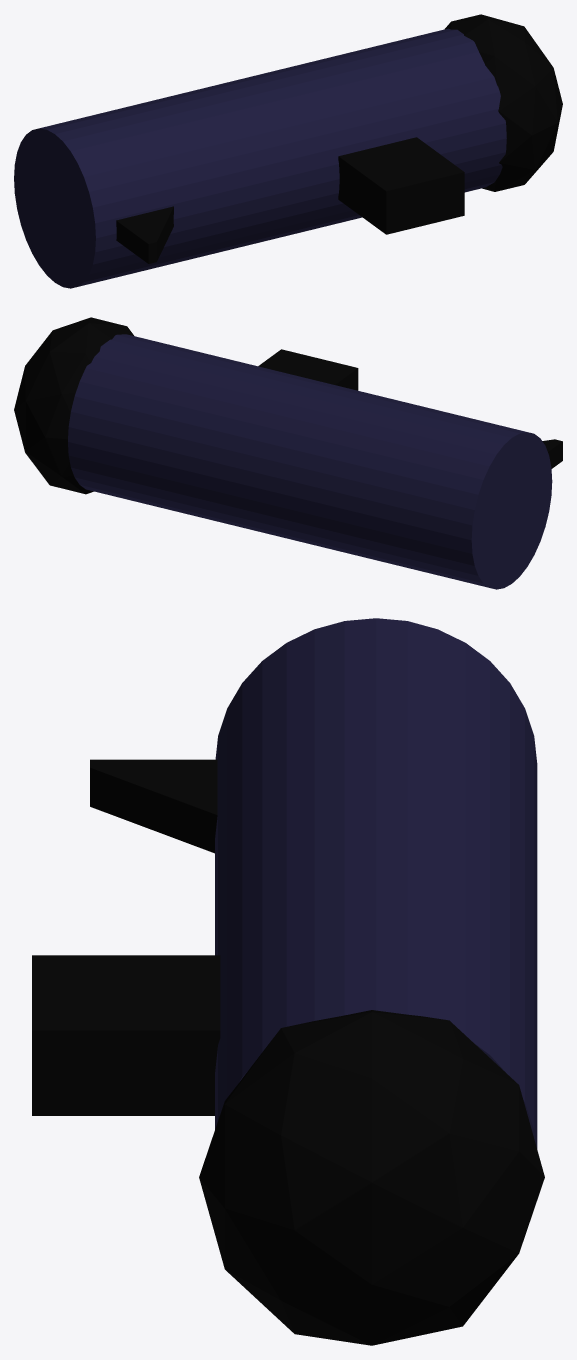
File: submarine.obj
3 renders of one model, top to bottom at view 1: azimuth 30°, elevation 25°; view 2: azimuth 150°, elevation 25°; view 3: azimuth 270°, elevation 25°, orthographic. The views are drawn at different scales.
Visible parts, largest first — view 1: main, tip, peri, Cube; view 2: main, tip, peri, Cube; view 3: main, tip, peri, Cube.
Part boxes in pixels (x1=…): main: x1=14, y1=28, x2=506, y2=288; tip: x1=445, y1=14, x2=562, y2=191; peri: x1=338, y1=137, x2=464, y2=234; Cube: x1=116, y1=206, x2=173, y2=263; main: x1=68, y1=334, x2=552, y2=589; tip: x1=14, y1=317, x2=133, y2=494; peri: x1=258, y1=349, x2=358, y2=390; Cube: x1=542, y1=439, x2=562, y2=468; main: x1=215, y1=618, x2=537, y2=1148; tip: x1=199, y1=1010, x2=544, y2=1345; peri: x1=32, y1=955, x2=220, y2=1115; Cube: x1=90, y1=759, x2=217, y2=853.
Size of the model in its own units: 13.83 by 4.52 by 6.37.
